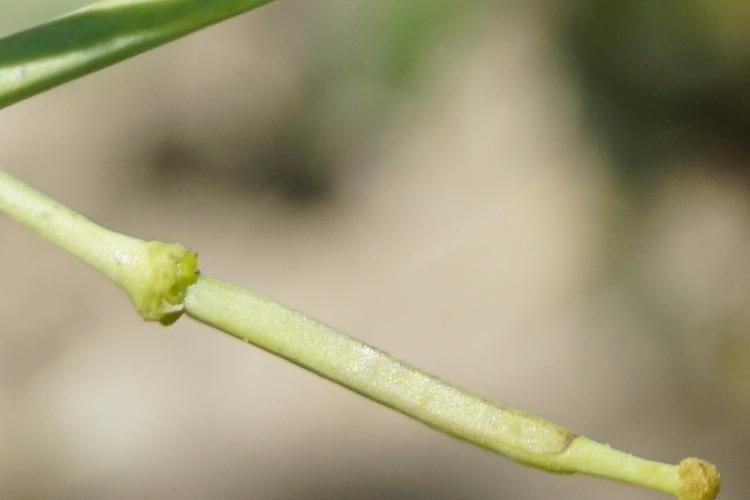pod: (18, 170, 717, 500)
